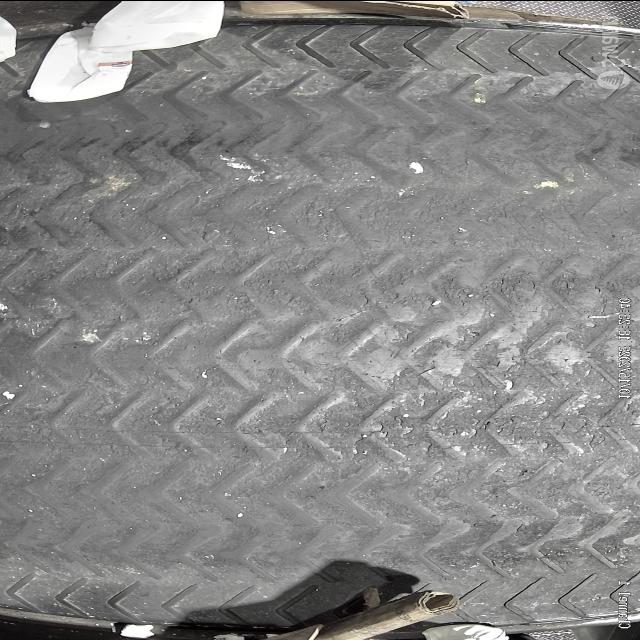milk_jug: (27, 22, 132, 102), (92, 0, 226, 52)
